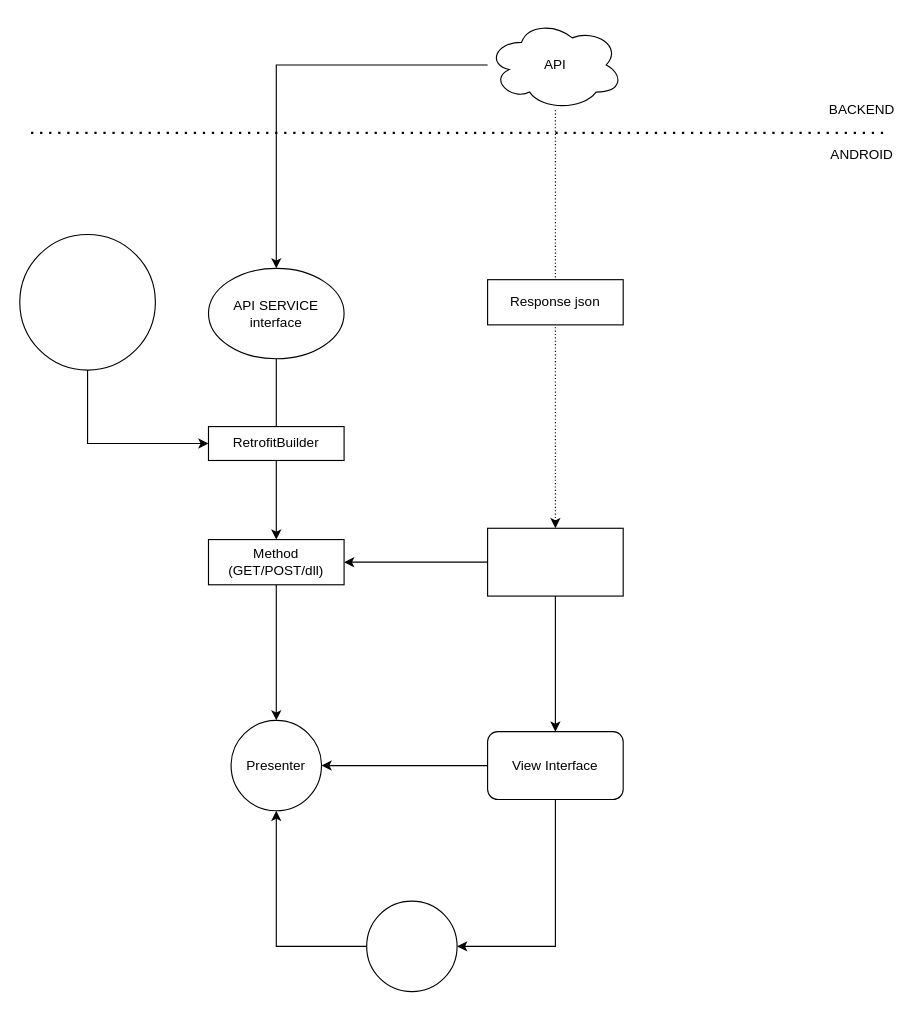
This 921x1011 diagram has some shape labels left out. The shapes that lost their labels are listed below. From the top down, each one's centre as x and y in pixels, then its label:
[87,301]: - GSON converter - Logging Interceptor - Okttp
[554,561]: Data Class (POJO)
[411,946]: Activity
